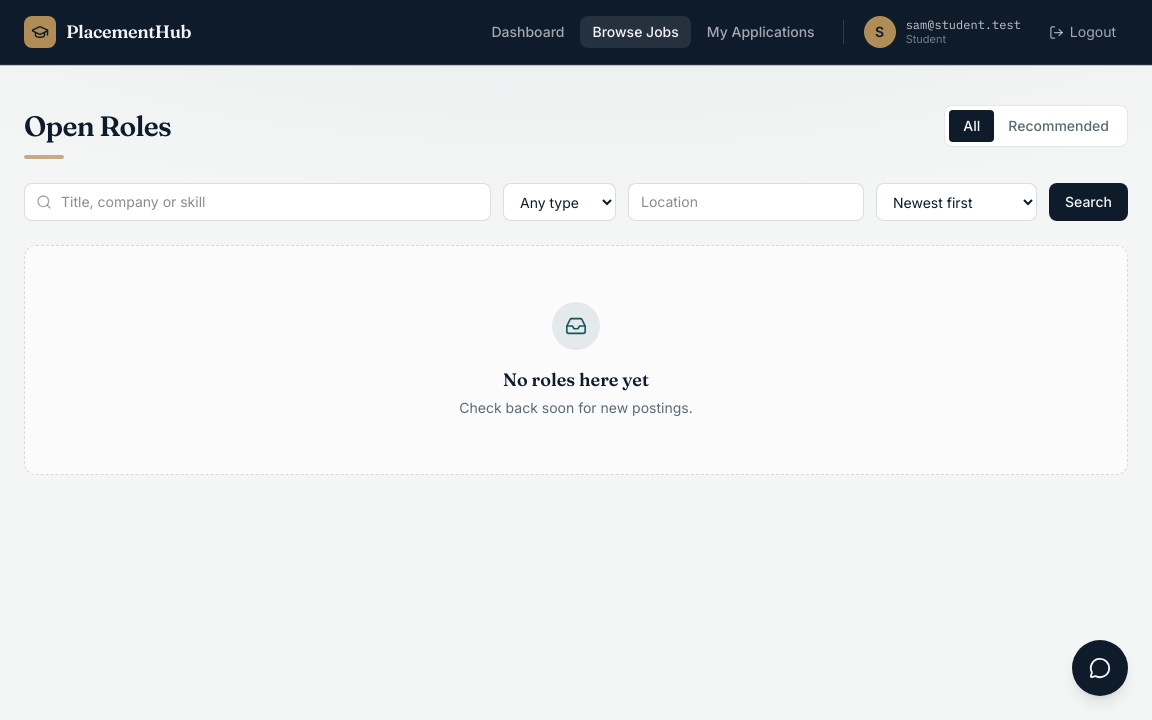
Scenario: Browse jobs page › shows "Recommended" by asking only for jobs the student is eligible for
Click the button "Recommended" at (1059, 126), box [994, 110, 1123, 142]
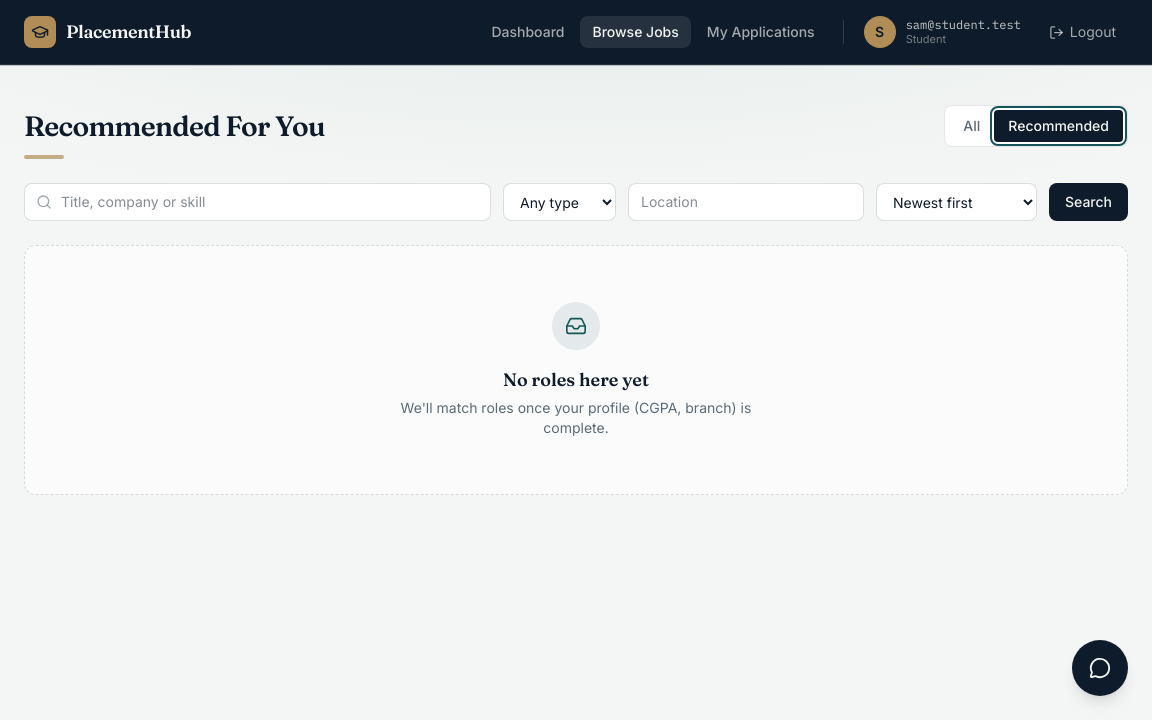
Result: the heading "Recommended For You" is shown at [24, 105, 325, 147]
Result: the text "once your profile (CGPA, branch) is complete" is shown at [401, 399, 751, 436]
